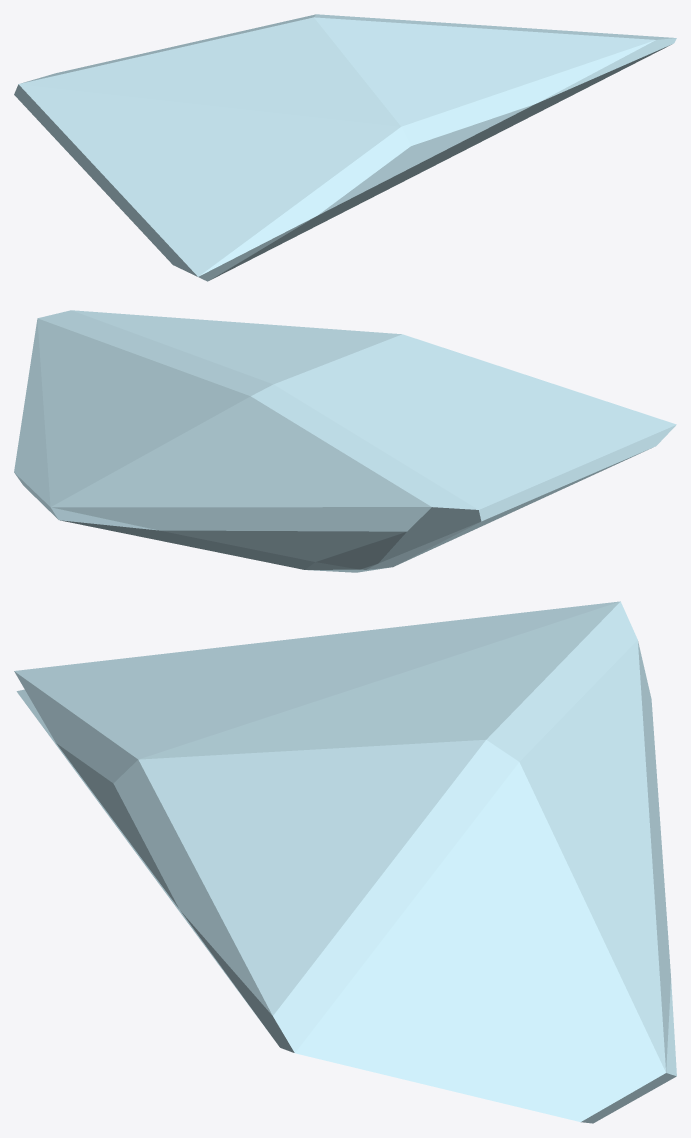
Rendered from ice_chunk_d.glb.
3 views of the same model, one above another, from view 1: azimuth 30°, elevation 25°; view 2: azimuth 150°, elevation 25°; view 3: azimuth 270°, elevation 25° (orthographic). The views are drawn at different scales.
Visible parts, largest first — view 1: IceChunk; view 2: IceChunk; view 3: IceChunk.
Part boxes in pixels (box(x1,y1,x2,y2)): IceChunk: box(14, 14, 676, 281); IceChunk: box(14, 310, 676, 572); IceChunk: box(14, 601, 676, 1123).
Bounding box in the file's own units: 1.61 × 0.3635 × 1.03.
